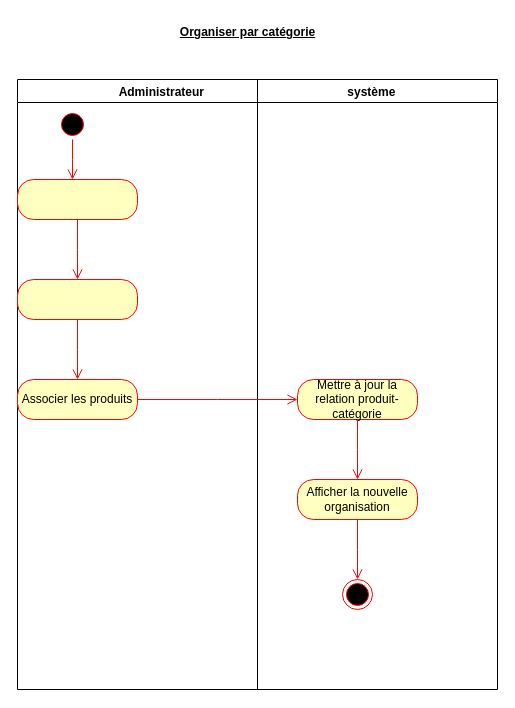
Image size: 515x708. Some labels were removed from this diagram. Each missing label, with the centre of its shape:
"Se connecter" belongs at point 77,199.
"Sélectionner une catégorie" belongs at point 77,299.
